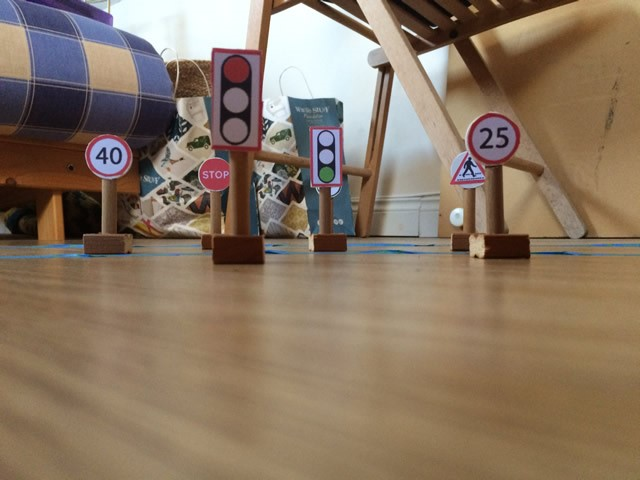Green Traffic Light: (309, 126, 342, 187)
Red Traffic Light: (209, 46, 262, 149)
Speed Limit 25: (468, 112, 520, 161)
Speed Limit 40: (86, 134, 134, 178)
Stop Sign: (198, 157, 232, 192)
